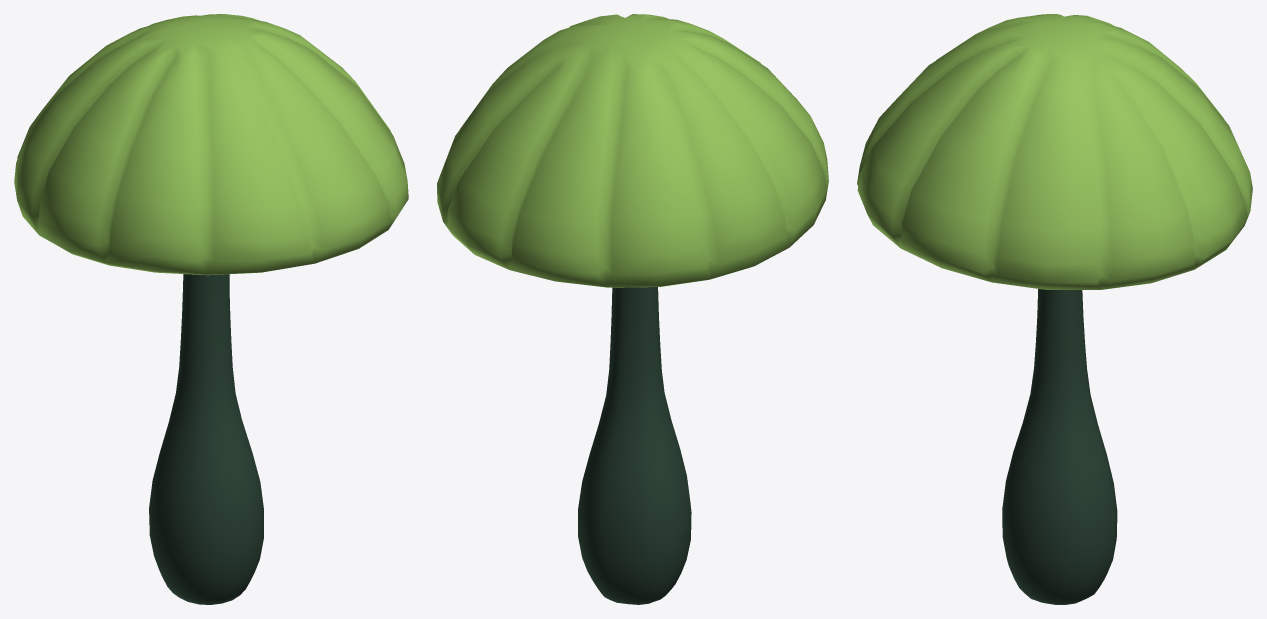
The model's file is mushroom 12.fbx.
3 views of the same model, side by side, from view 1: azimuth 30°, elevation 25°; view 2: azimuth 150°, elevation 25°; view 3: azimuth 270°, elevation 25° (orthographic).
Parts seen in each view (by area): view 1: Mushroom_0001_0012; view 2: Mushroom_0001_0012; view 3: Mushroom_0001_0012.
Part boxes in pixels (left/top/right/bottom): Mushroom_0001_0012: left=14, top=14, right=408, bottom=604; Mushroom_0001_0012: left=437, top=14, right=828, bottom=604; Mushroom_0001_0012: left=857, top=14, right=1252, bottom=604.
Bounding box in the file's own units: 16.12 × 25.88 × 16.52.
1 material, 1 textured.
